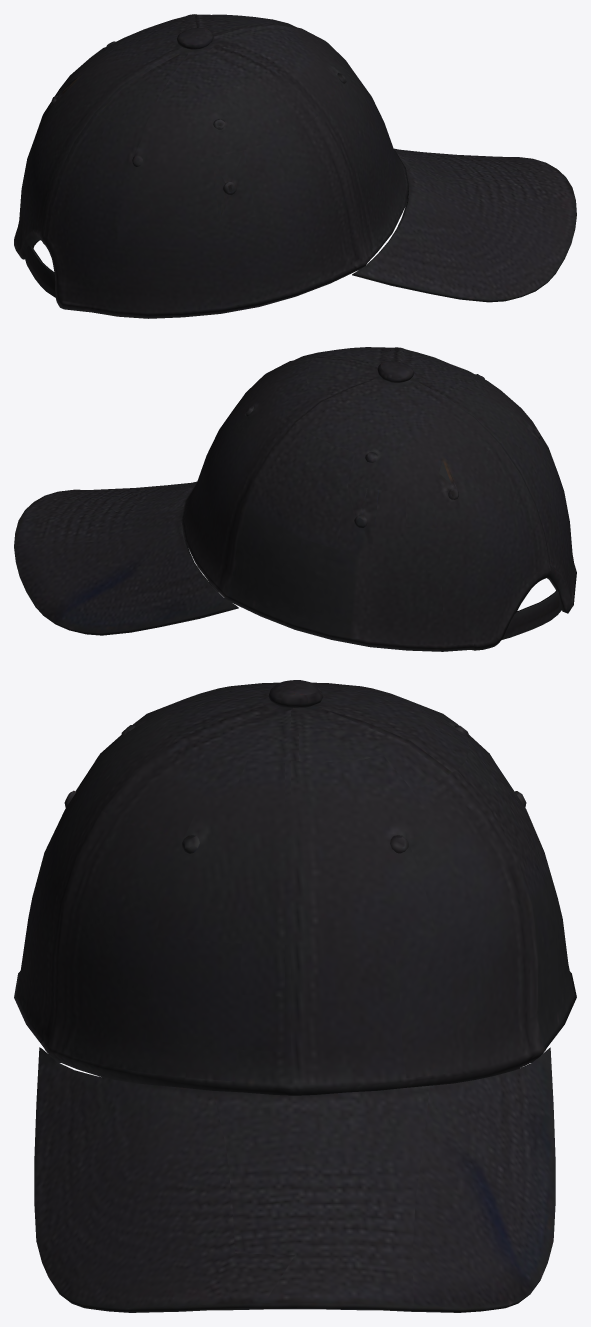
File: bone_preto.glb
3 renders of one model, top to bottom at view 1: azimuth 30°, elevation 25°; view 2: azimuth 150°, elevation 25°; view 3: azimuth 270°, elevation 25°, orthographic. The views are drawn at different scales.
Parts seen in each view (by area): view 1: bone_preto; view 2: bone_preto; view 3: bone_preto.
Boxes of the visible parts, box(x1,y1,x2,y2) form: bone_preto: box(14, 14, 576, 318); bone_preto: box(14, 347, 576, 651); bone_preto: box(14, 680, 576, 1312).
Size of the model in its own units: 0.4438 by 0.2192 by 0.271.
Materials: 1 (1 with a texture image).
